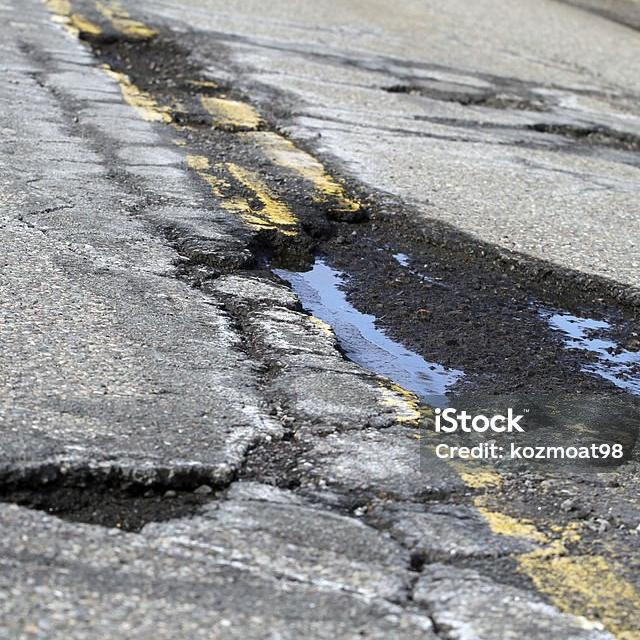lubang_kecil: (221, 197, 640, 401), (0, 421, 241, 559), (56, 15, 258, 114), (359, 62, 523, 129), (525, 99, 640, 176)
